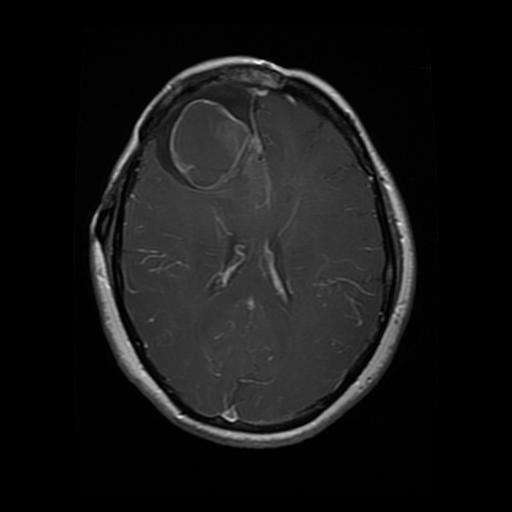Tumour-Glioma: (167, 96, 257, 199)
